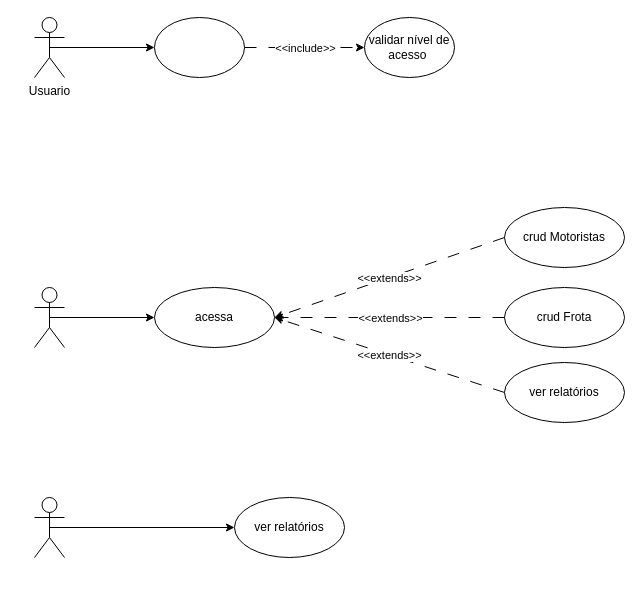
Some shapes in this 642 by 596 pixel diagram are drawn without their labels. Here are the shapes that lost their labels. From the top down, the centre of each, then its label:
At point (199, 47): "login".
At point (49, 317): "Gerencial".
At point (49, 527): "Operacional".
